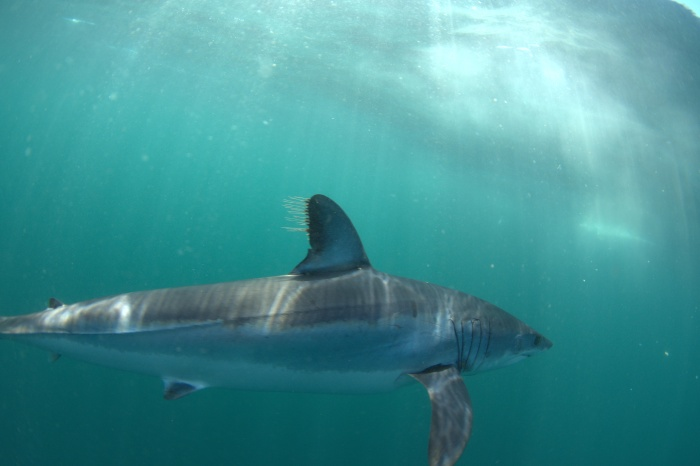Mako: (1, 181, 575, 465)
